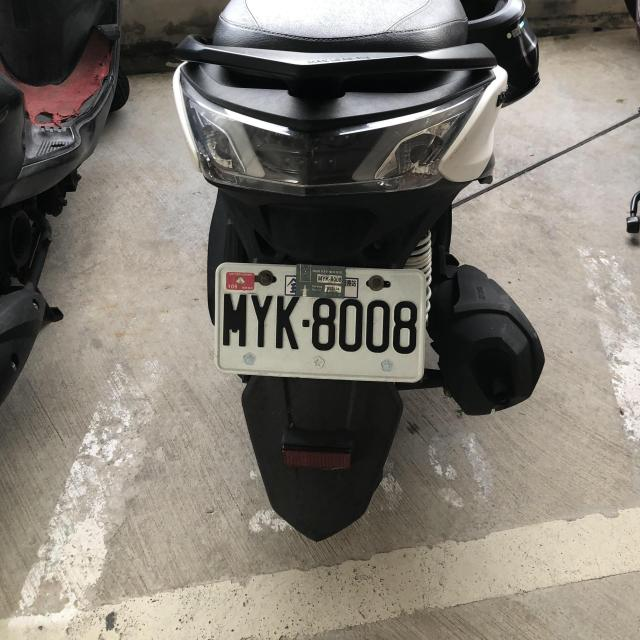W: (212, 261, 426, 384)
